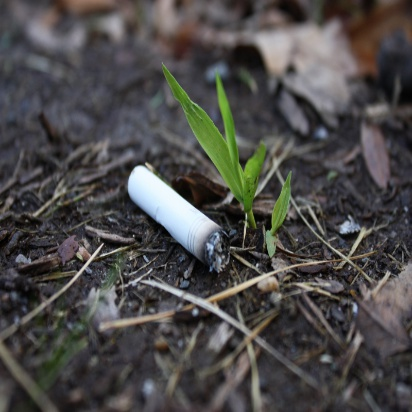cigarette: (119, 165, 234, 276)
